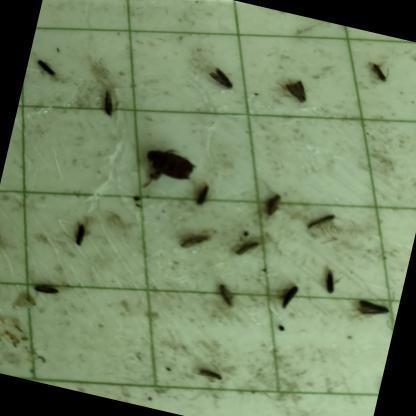prays_oleae: (194, 40, 249, 115), (173, 216, 220, 284), (346, 288, 400, 342), (83, 67, 127, 130), (298, 196, 344, 254), (274, 65, 316, 124), (222, 228, 268, 278), (268, 262, 306, 320), (190, 354, 231, 401), (209, 279, 248, 326), (365, 54, 399, 99), (311, 262, 345, 305), (24, 48, 61, 86), (261, 186, 293, 222), (26, 276, 66, 304), (65, 217, 93, 254), (302, 17, 329, 33), (0, 211, 8, 261)
